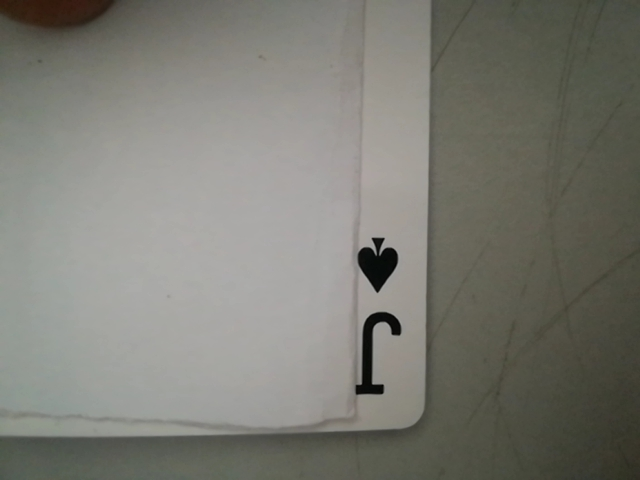ht j: (343, 226, 426, 416)
